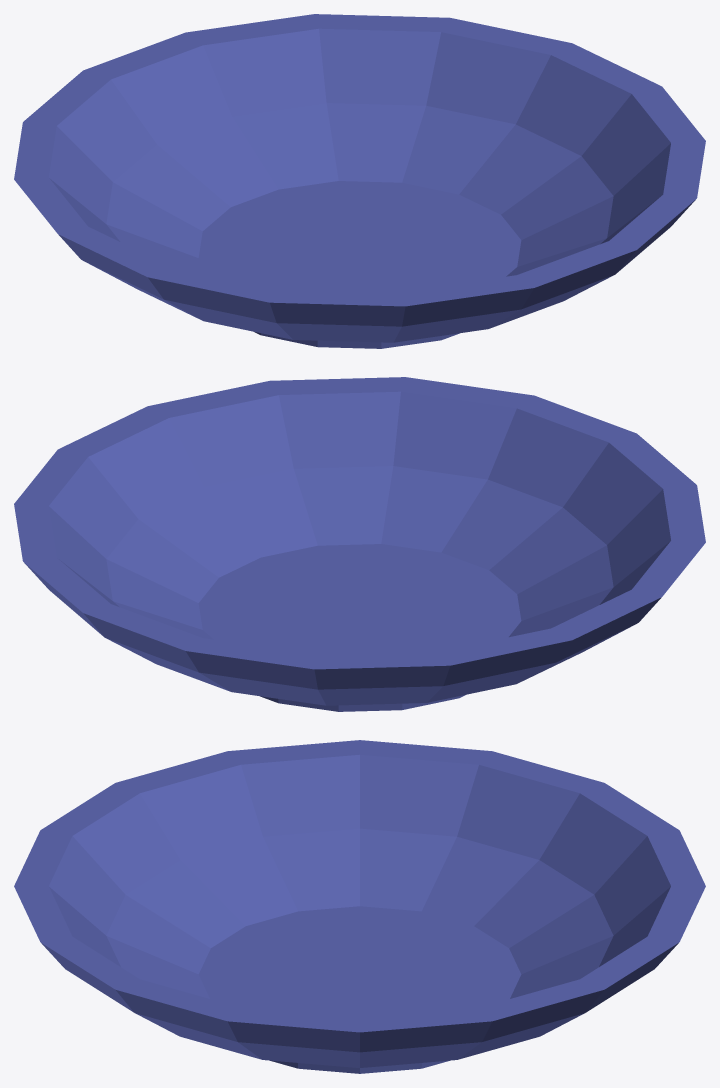
The model's file is dish.fbx.
3 renders of one model, top to bottom at view 1: azimuth 30°, elevation 25°; view 2: azimuth 150°, elevation 25°; view 3: azimuth 270°, elevation 25°, orthographic.
Visible parts, largest first — view 1: Dish; view 2: Dish; view 3: Dish.
Part boxes in pixels (<box>): Dish: <box>14,14,705,348</box>; Dish: <box>14,377,705,711</box>; Dish: <box>14,740,705,1073</box>.
Size of the model in its own units: 246 by 46.73 by 246.
